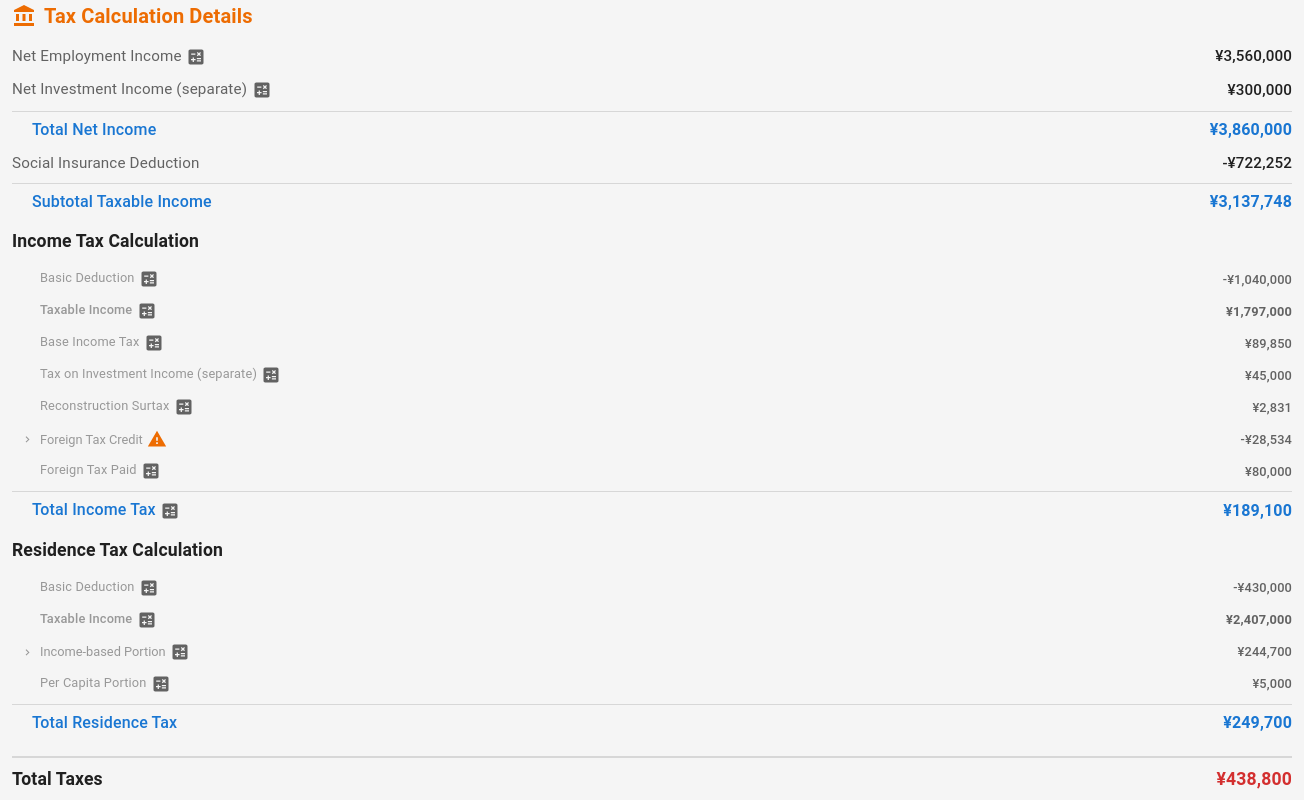
Test case: TaxesTab with the foreign tax credit › shows the credit under each tax and the foreign tax paid in the income tax total
The image size is (1304, 800).
Expected: the text "-¥28,534" is shown, top-left (1241, 430), bottom-right (1292, 449)
Expected: the text "¥80,000" is shown, top-left (1245, 462), bottom-right (1292, 481)
Click the button "Income-based Portion" at (93, 652), box top-left (21, 642), bottom-right (166, 662)
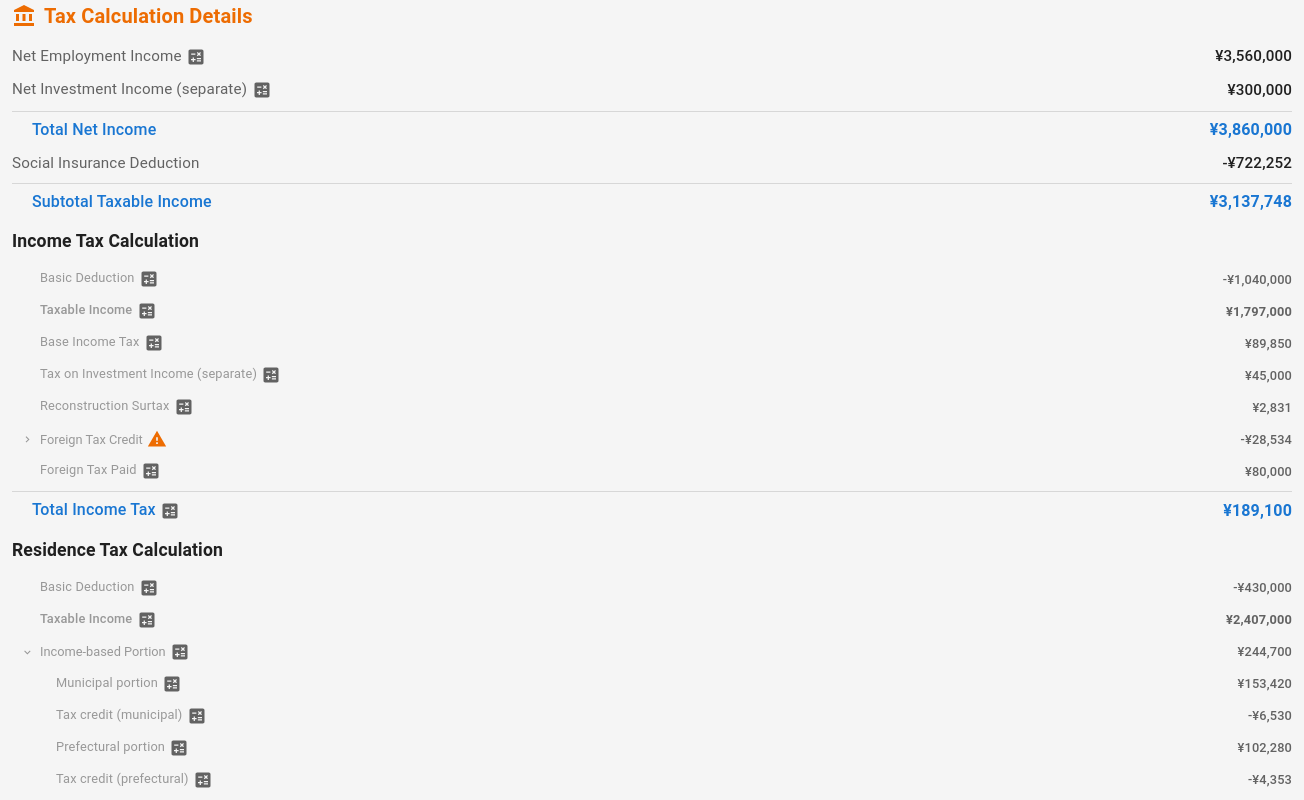
Now the button "Income-based Portion" is expanded, box top-left (21, 642), bottom-right (166, 662)
Now the text "-¥6,530" is shown, box top-left (1248, 706), bottom-right (1292, 726)
Now the text "-¥4,353" is shown, box top-left (1248, 770), bottom-right (1292, 790)
